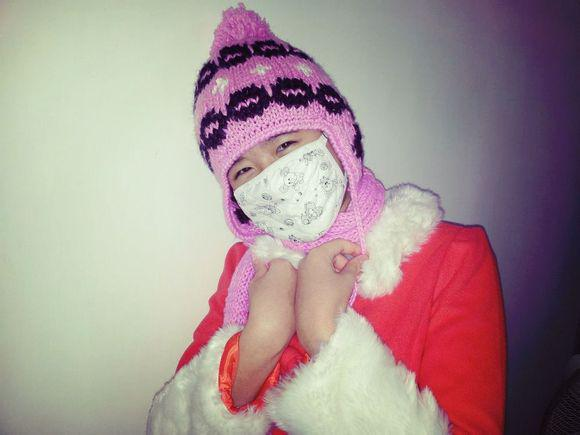OK: (220, 124, 340, 244)
